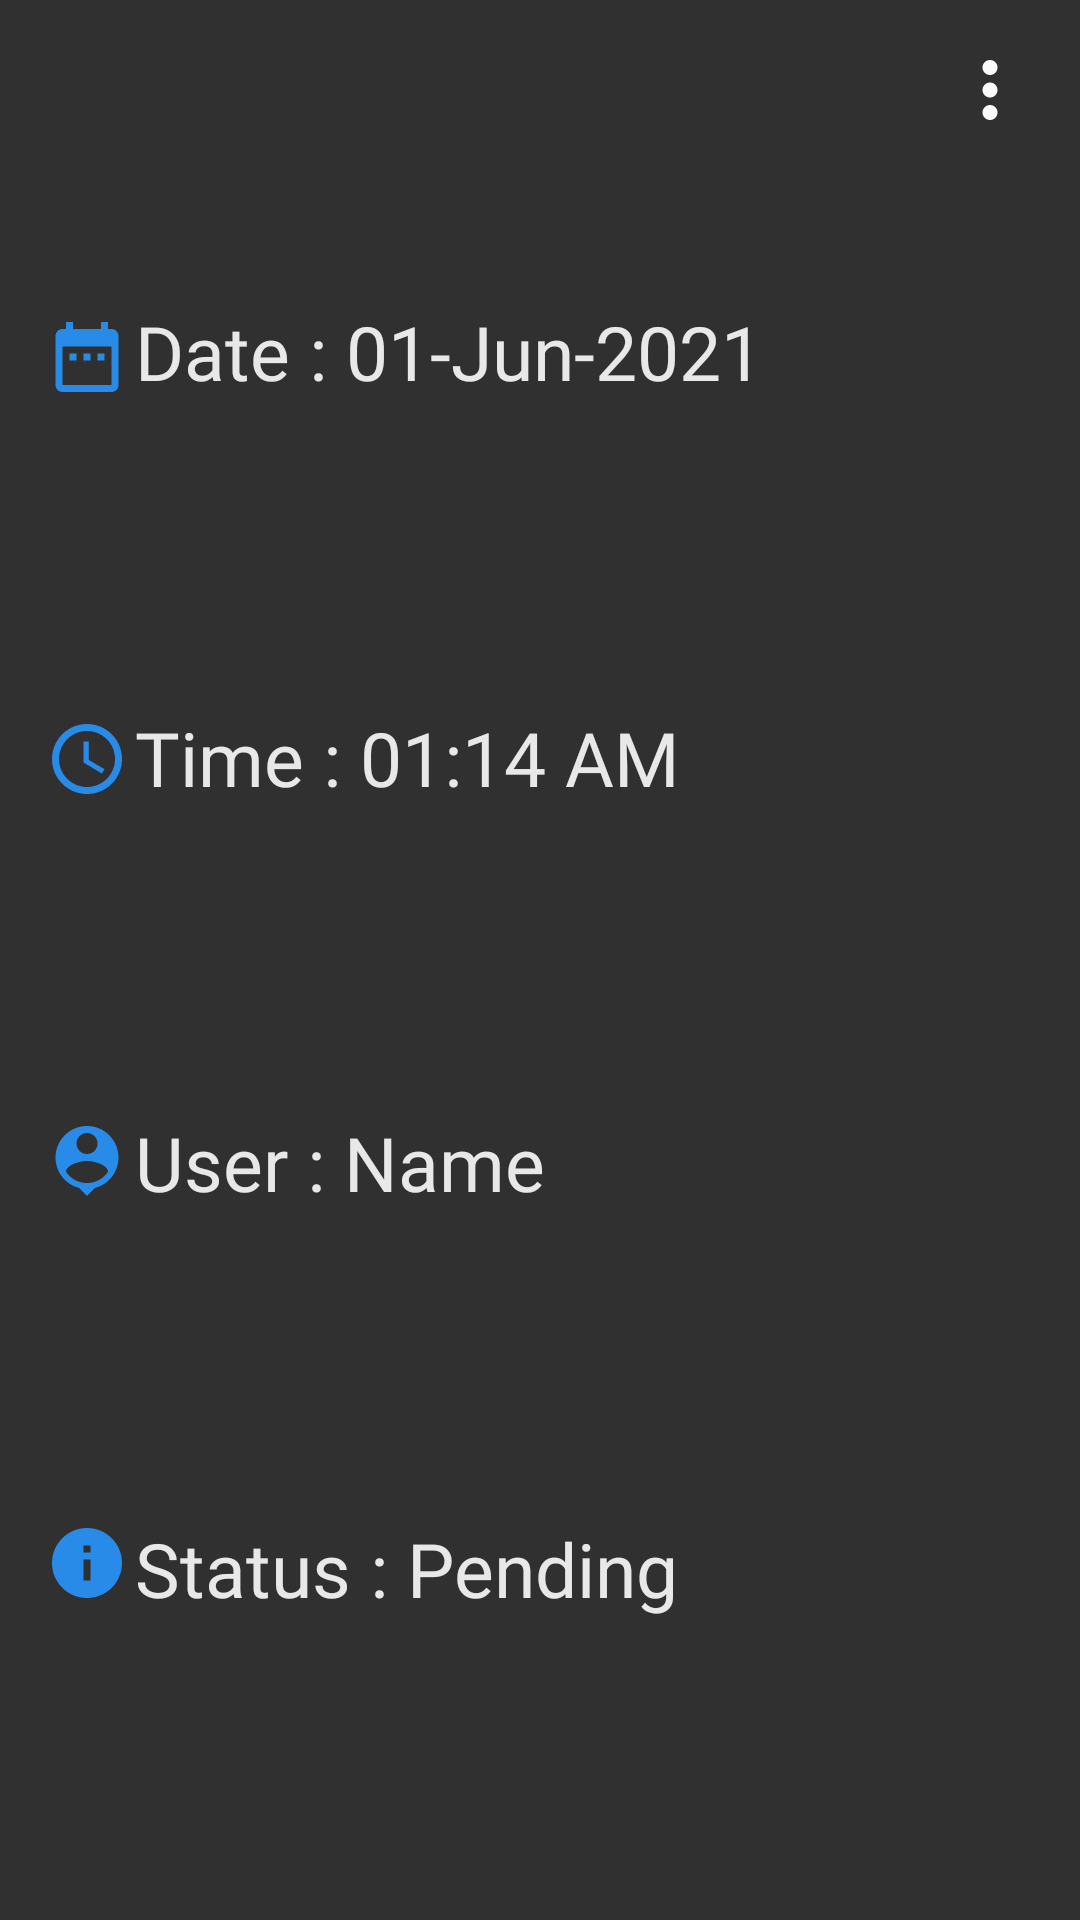

Icon click points for this 1080x1920 phone screenshot, format (x,y):
access timesmall: (87,759)
date rangesmall: (87,357)
info: (87,1563)
more vert: (990,90)
person pinsmall: (87,1161)
